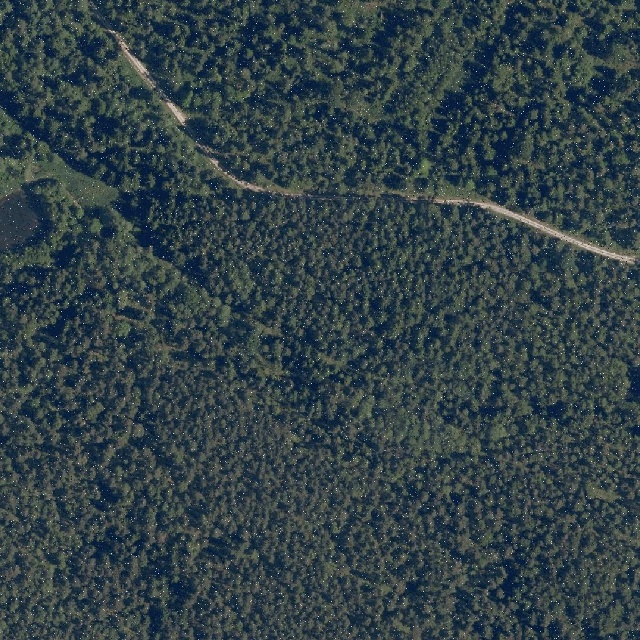vegetation: (95, 0, 640, 256)
